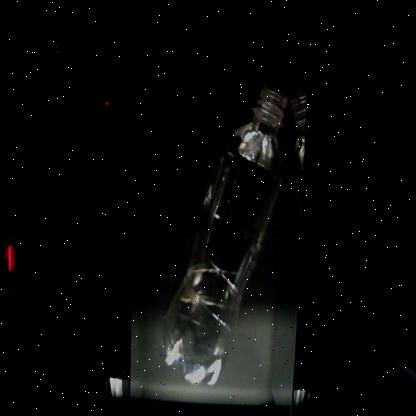Plastic Bottle: (163, 84, 287, 384)
